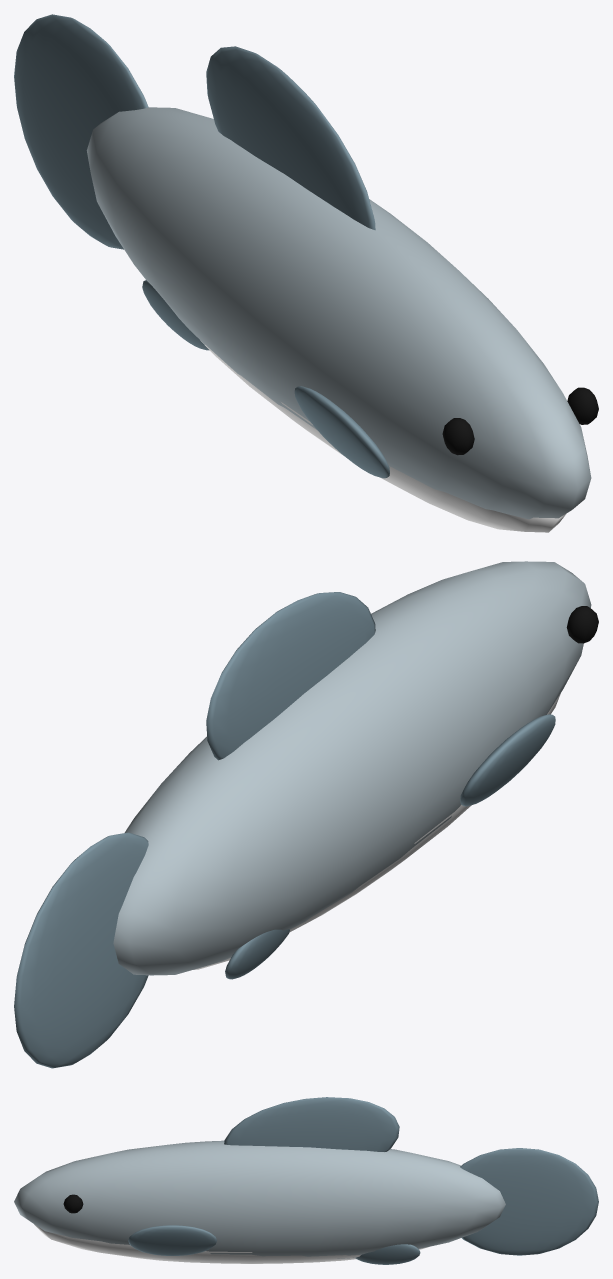
The model's file is seabass.glb.
3 renders of one model, top to bottom at view 1: azimuth 30°, elevation 25°; view 2: azimuth 150°, elevation 25°; view 3: azimuth 270°, elevation 25°, orthographic. The views are drawn at different scales.
Visible parts, largest first — view 1: seabass; view 2: seabass; view 3: seabass.
Boxes of the visible parts, x1=… form: seabass: x1=14, y1=14, x2=598, y2=532; seabass: x1=14, y1=561, x2=598, y2=1068; seabass: x1=14, y1=1097, x2=598, y2=1264.
Bounding box in the file's own units: 0.2268 × 0.3266 × 1.06.
